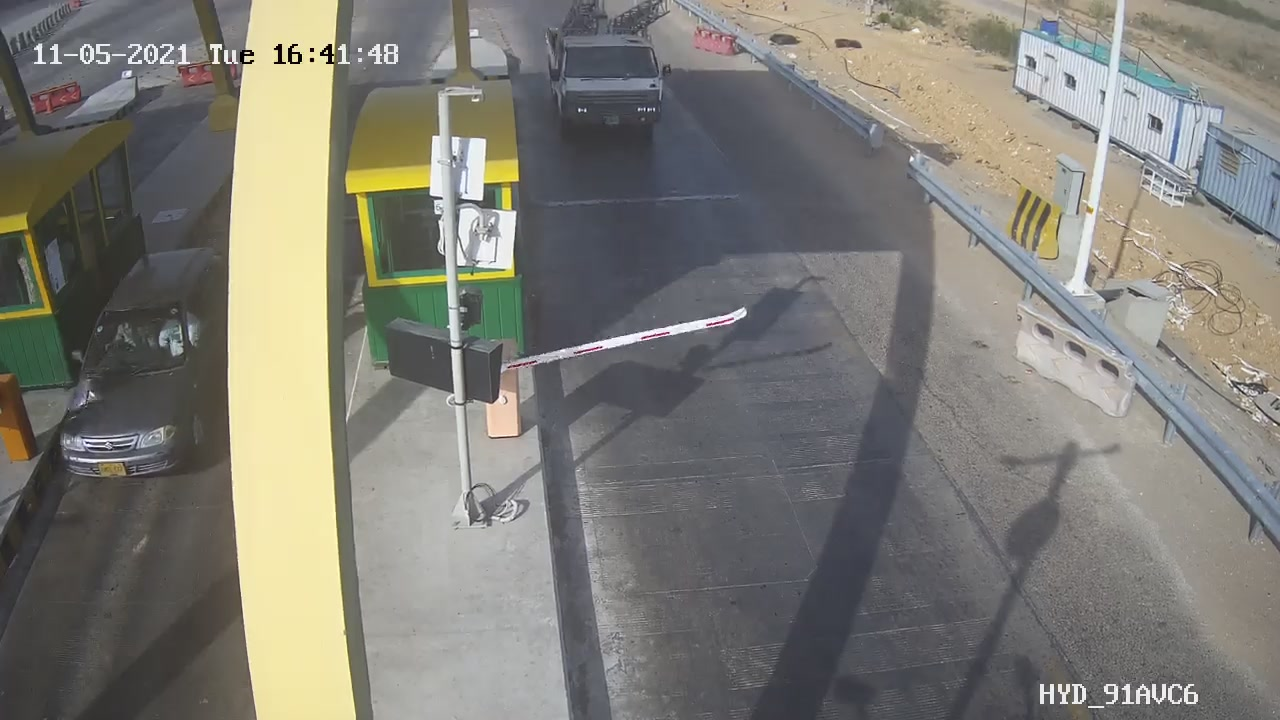F3: (525, 4, 689, 152)
